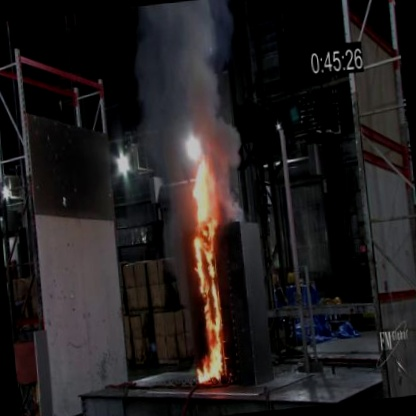fire: (180, 196, 229, 367)
smoke: (136, 0, 242, 198)
